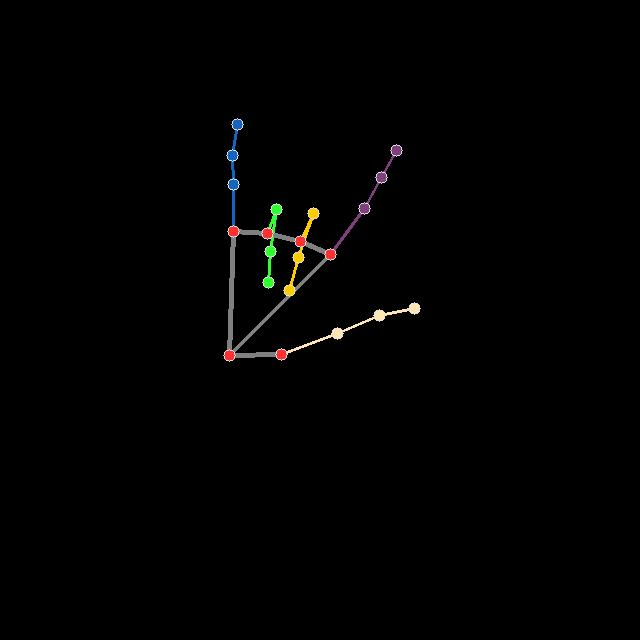spiderman: (224, 117, 420, 363)
